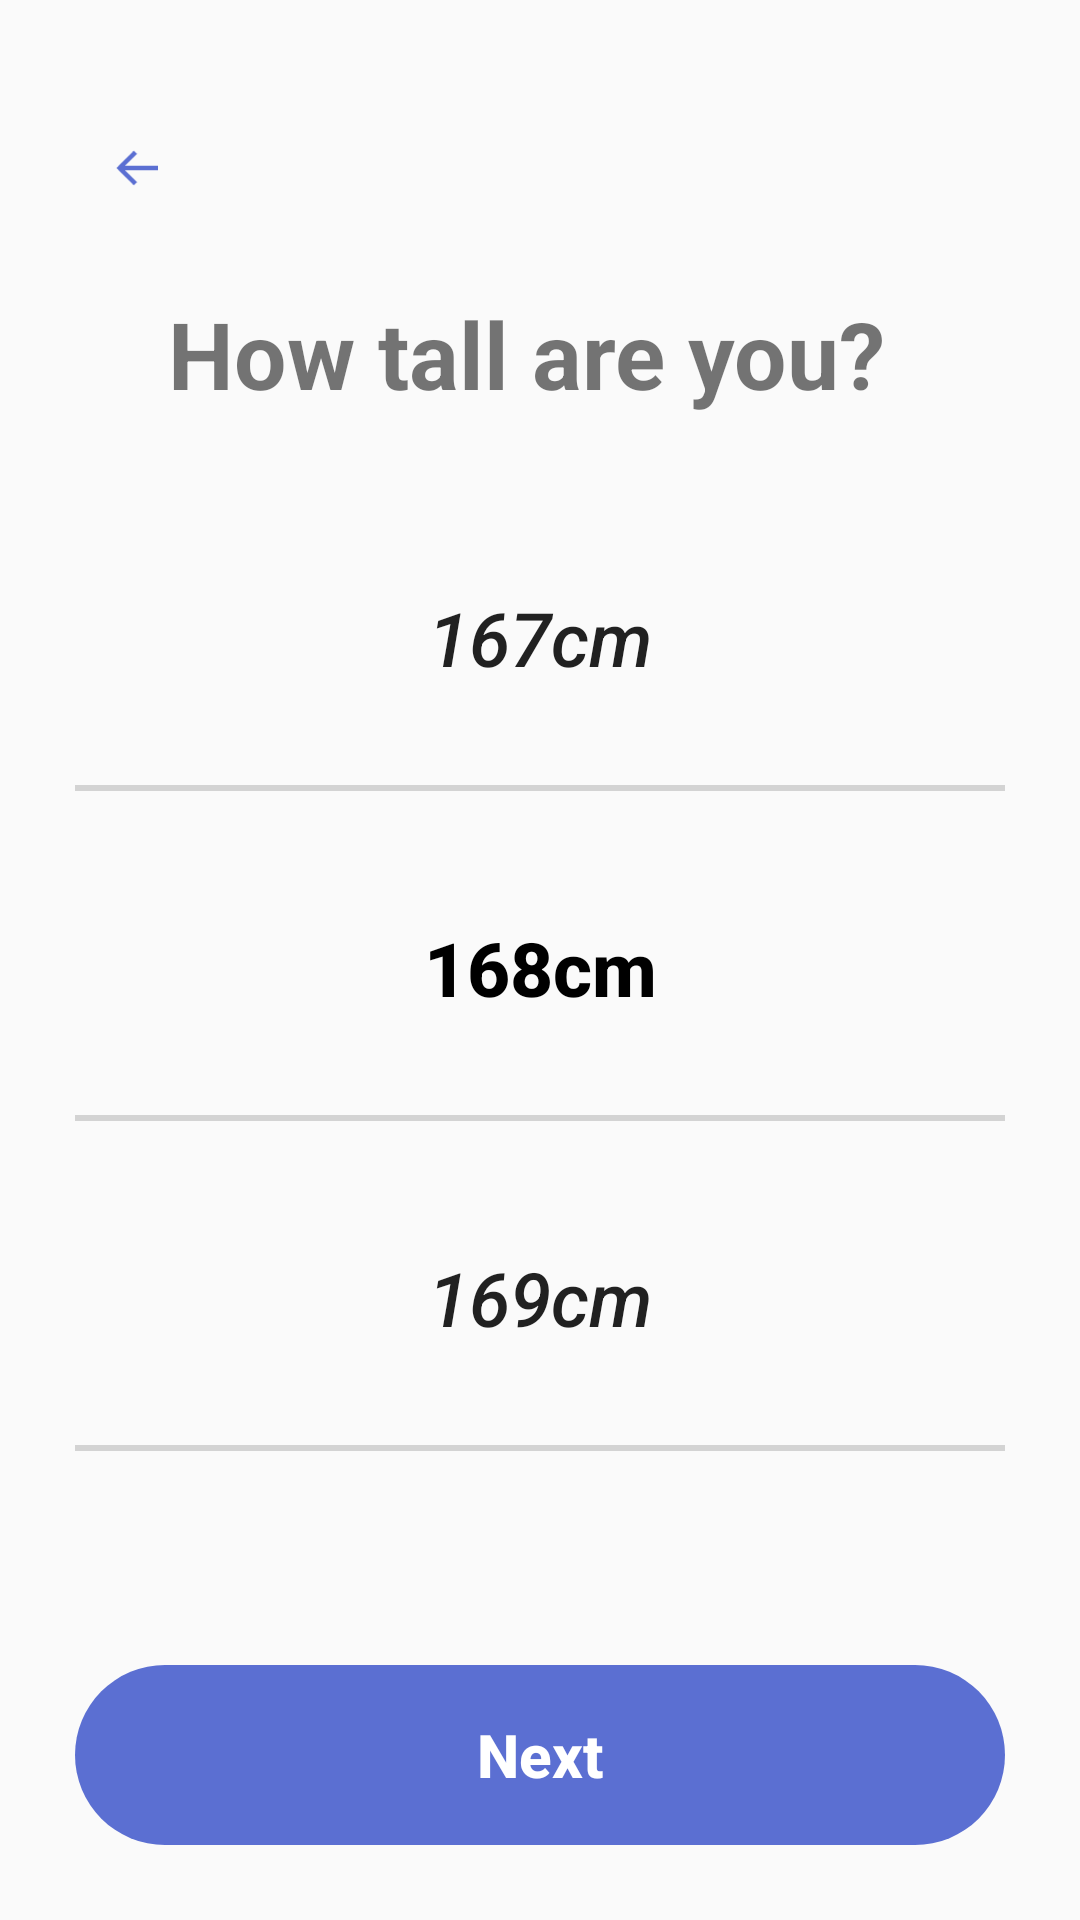

Icons on this 1080 x 1920 Android screen, each with the point to tap as (x,y):
backblue: (137,168)
